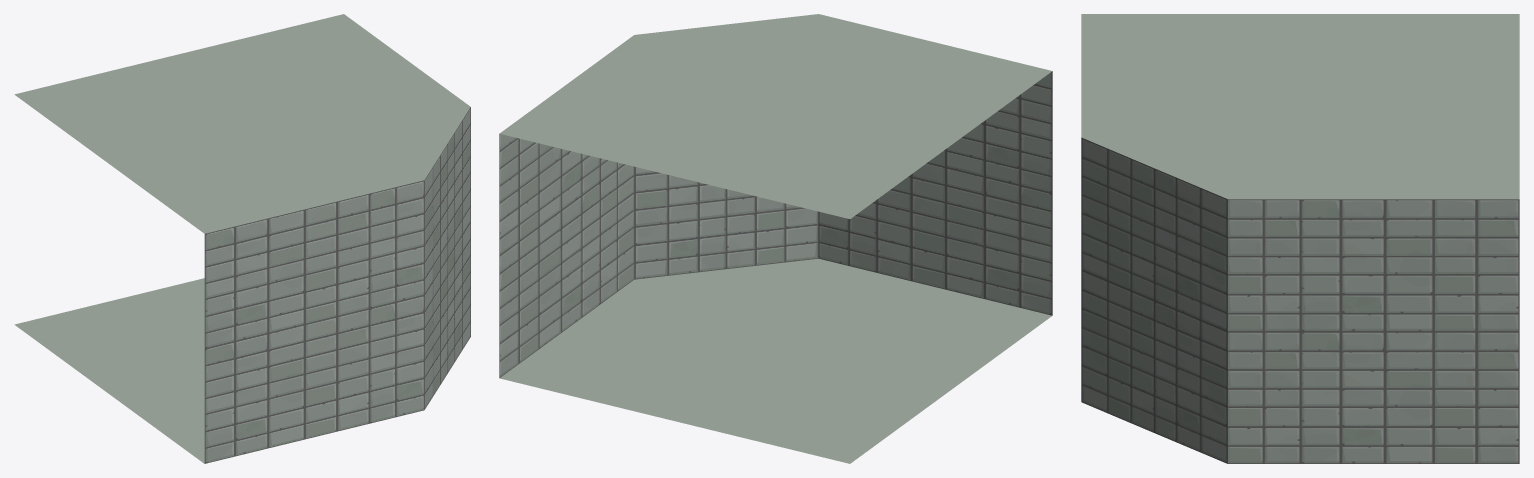
The model's file is Bock_A2(0).fbx.
3 renders of one model, left to right at view 1: azimuth 30°, elevation 25°; view 2: azimuth 150°, elevation 25°; view 3: azimuth 270°, elevation 25°, orthographic. The views are drawn at different scales.
Parts seen in each view (by area): view 1: Bock_A2; view 2: Bock_A2; view 3: Bock_A2.
Boxes of the visible parts, x1,y1,x2,y2 form: Bock_A2: [14, 14, 470, 463]; Bock_A2: [499, 14, 1052, 463]; Bock_A2: [1081, 14, 1519, 463].
Bounding box in the file's own units: 600 × 400 × 600.
